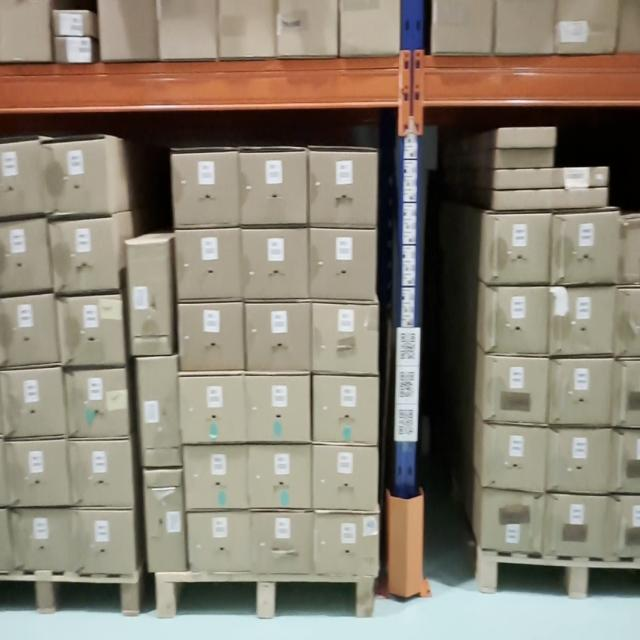box: (310, 150, 376, 228), (240, 152, 307, 222), (174, 152, 239, 222), (128, 245, 170, 353), (314, 304, 378, 372), (179, 229, 240, 300), (47, 138, 105, 212), (246, 304, 311, 370), (178, 306, 244, 371), (244, 231, 307, 298), (0, 369, 61, 438), (486, 215, 548, 282), (182, 376, 245, 441), (9, 438, 67, 508), (312, 233, 375, 297), (314, 377, 378, 440), (54, 222, 116, 287), (486, 288, 548, 352), (314, 447, 378, 509), (145, 472, 185, 571), (0, 296, 55, 367), (551, 290, 612, 353), (249, 376, 310, 439), (486, 359, 546, 423), (550, 360, 610, 424), (64, 298, 120, 366), (251, 512, 312, 574), (73, 512, 134, 573), (548, 430, 610, 490), (250, 444, 312, 504), (315, 516, 379, 574), (184, 447, 248, 505), (552, 219, 609, 284), (74, 440, 130, 506), (143, 359, 177, 466), (68, 375, 129, 434), (548, 494, 605, 557), (484, 492, 540, 555), (0, 217, 45, 294), (15, 510, 71, 571), (190, 512, 248, 570), (484, 431, 546, 485), (0, 139, 39, 215), (609, 498, 640, 556), (615, 359, 640, 427), (612, 431, 640, 491), (617, 288, 640, 354), (621, 221, 640, 282), (553, 166, 608, 186), (495, 190, 551, 209), (498, 128, 556, 146), (496, 152, 552, 168), (496, 172, 552, 188), (554, 190, 606, 203), (0, 509, 7, 571), (0, 438, 4, 509)
